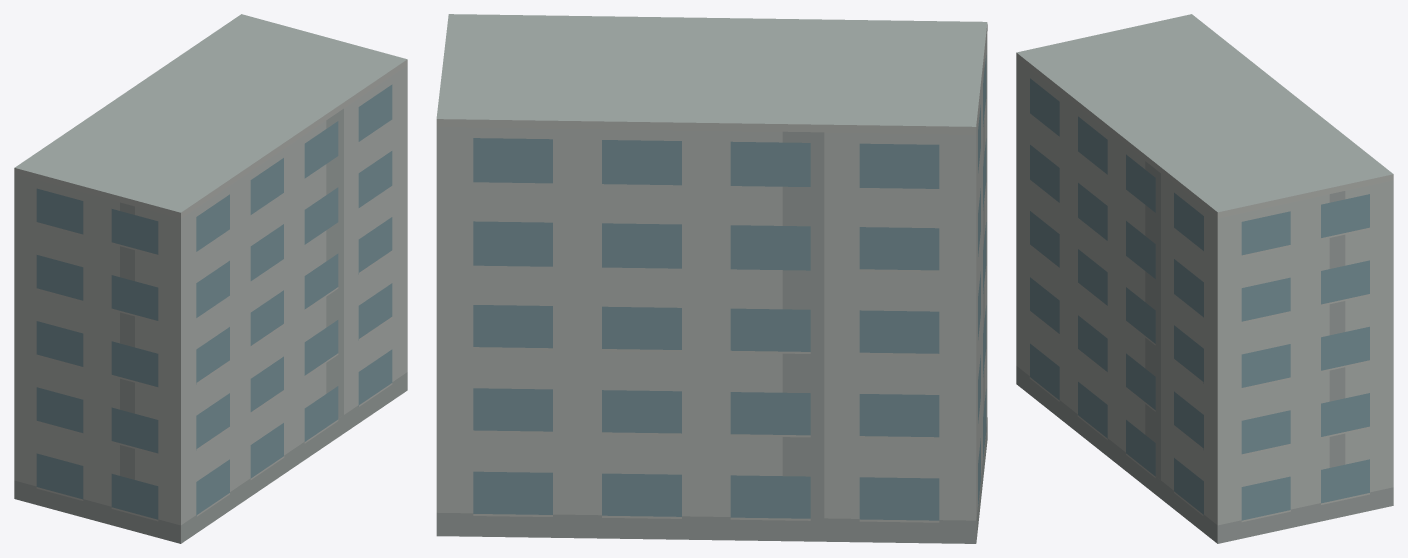
File: survey-upis-32967640.glb
3 renders of one model, left to right at view 1: azimuth 30°, elevation 25°; view 2: azimuth 150°, elevation 25°; view 3: azimuth 270°, elevation 25°, orthographic. The views are drawn at different scales.
Parts seen in each view (by area): view 1: survey-upis-32967640.tmp; view 2: survey-upis-32967640.tmp; view 3: survey-upis-32967640.tmp.
Part boxes in pixels (x1,y1,x2,y2): survey-upis-32967640.tmp: [14, 14, 407, 543]; survey-upis-32967640.tmp: [436, 14, 987, 543]; survey-upis-32967640.tmp: [1016, 14, 1393, 543].
Bounding box in the file's own units: 16.94 × 13.2 × 13.63.
